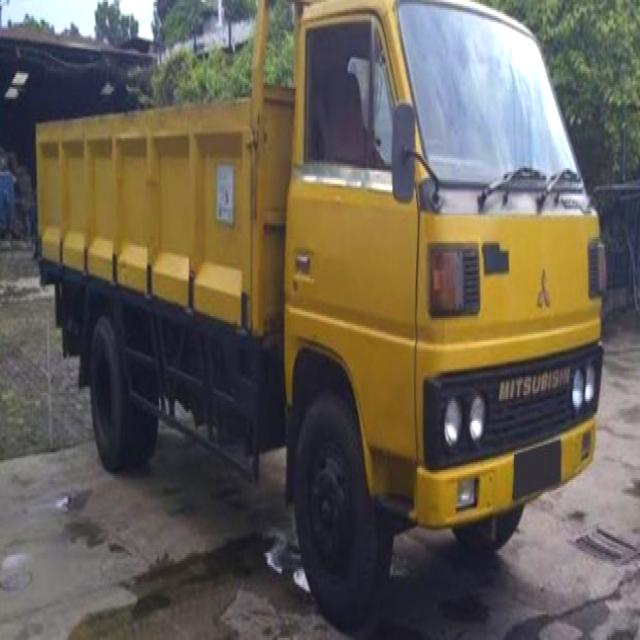truck: (37, 1, 610, 592)
